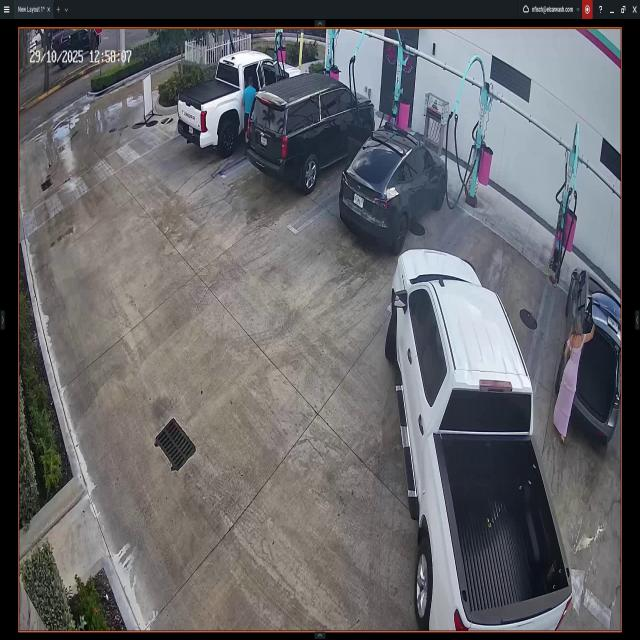Car: (386, 247, 568, 633), (247, 69, 373, 191), (178, 46, 301, 150), (340, 125, 446, 245), (564, 266, 621, 446)
